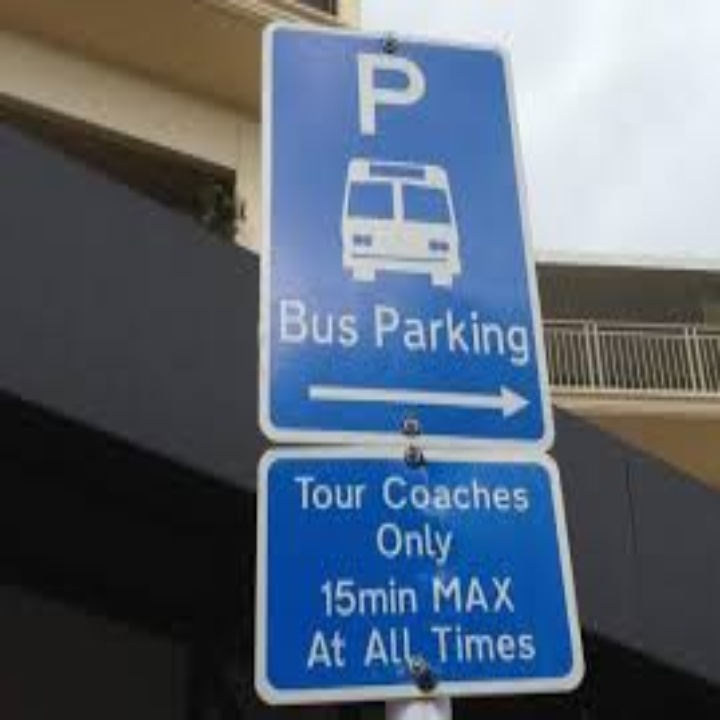parking: (354, 42, 432, 142)
